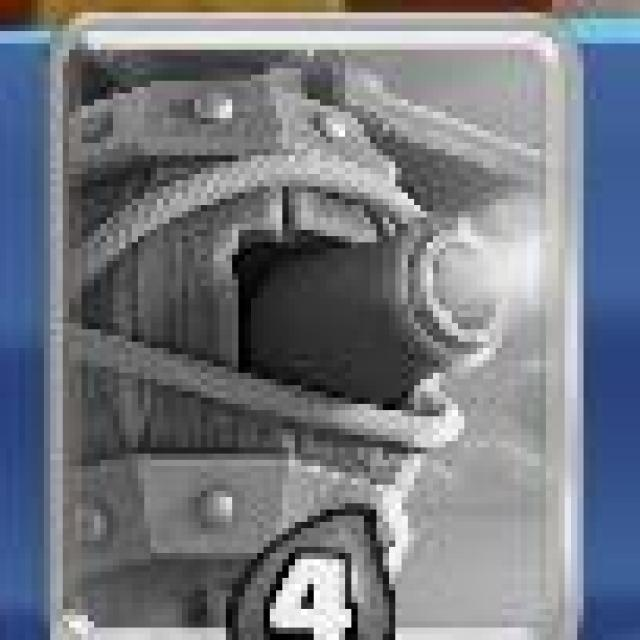Flying_Machine: (45, 13, 582, 640)
